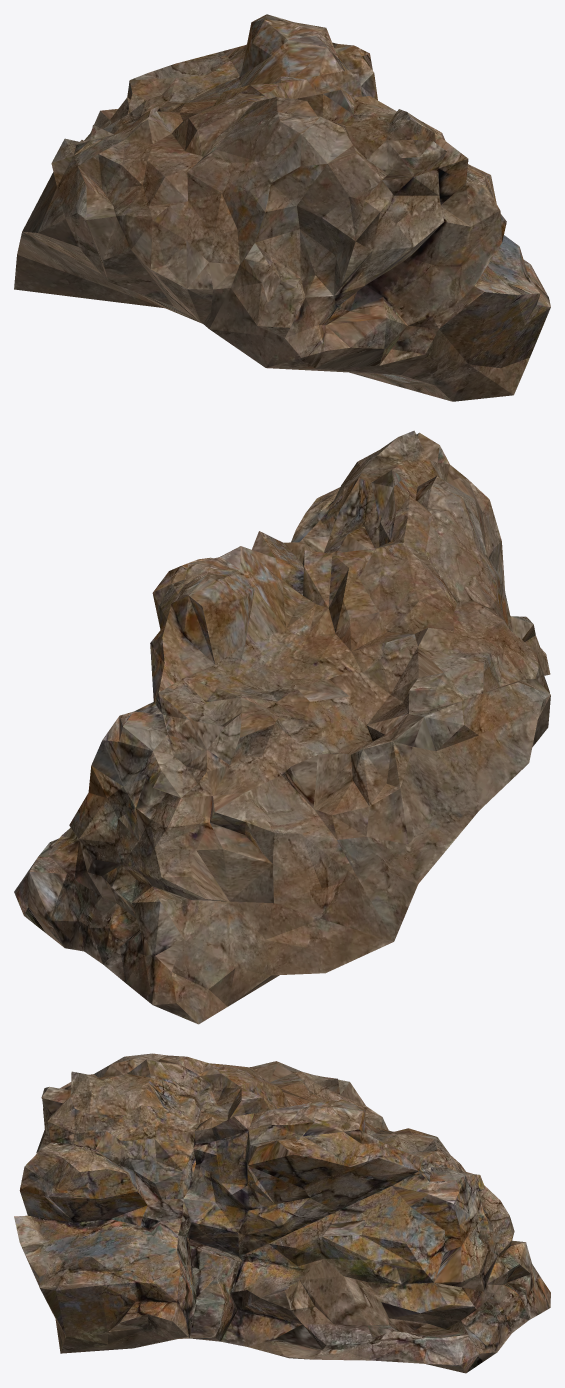
Rendered from pedra-v1.glb.
3 views of the same model, one above another, from view 1: azimuth 30°, elevation 25°; view 2: azimuth 150°, elevation 25°; view 3: azimuth 270°, elevation 25° (orthographic). The views are drawn at different scales.
Visible parts, largest first — view 1: boulder_01_LOD0; view 2: boulder_01_LOD0; view 3: boulder_01_LOD0.
Boxes of the visible parts, bbox=[...] form: boulder_01_LOD0: bbox=[14, 14, 550, 401]; boulder_01_LOD0: bbox=[14, 430, 550, 1024]; boulder_01_LOD0: bbox=[14, 1053, 550, 1373].
Bounding box in the file's own units: 1.28 × 1 × 1.81.
Materials: 1 (1 with a texture image).
